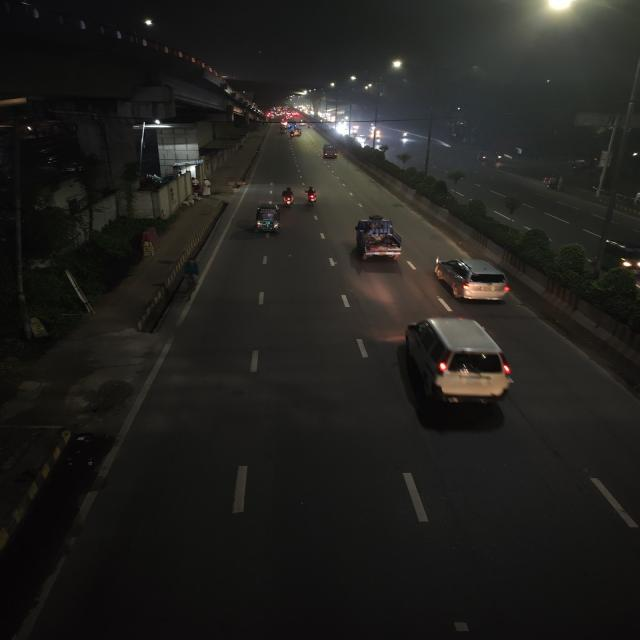car: (395, 313, 523, 415), (430, 252, 519, 310)
cng: (251, 202, 283, 236)
motorcycle: (302, 185, 321, 208), (278, 186, 296, 208), (541, 174, 559, 190)
pickup_van: (347, 213, 410, 266), (319, 143, 340, 161)
